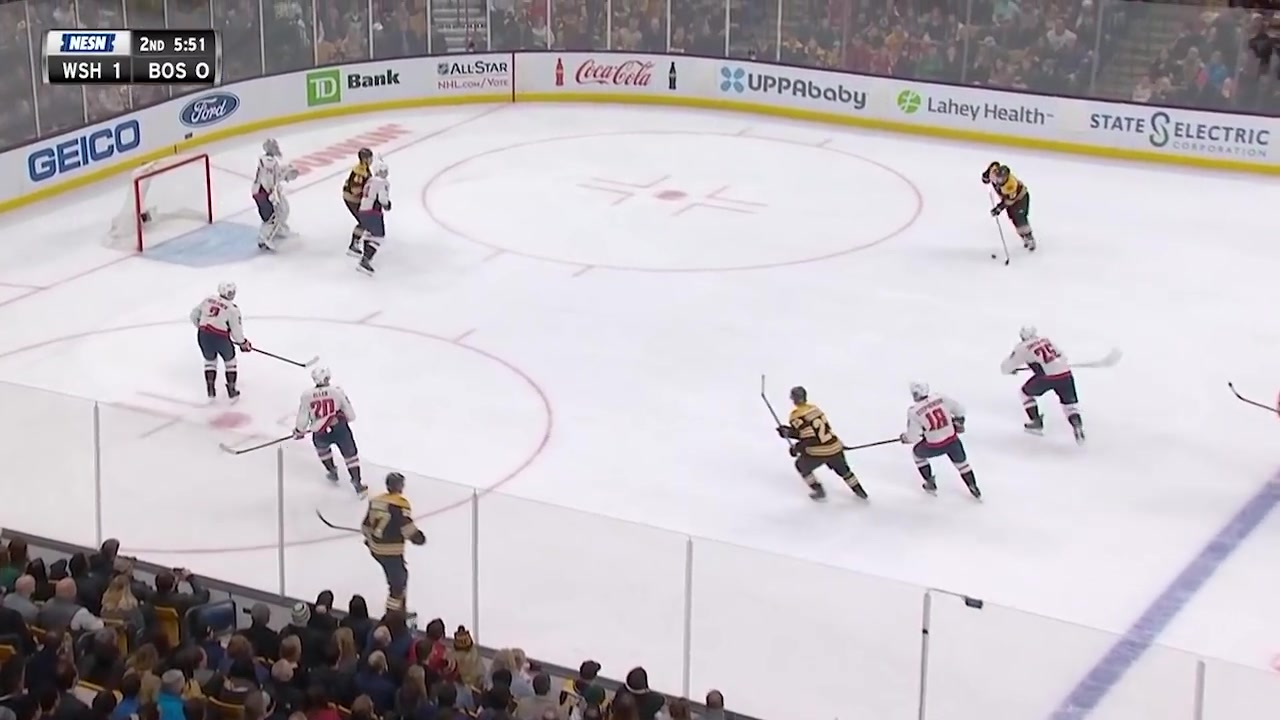geico: (26, 114, 150, 186)
